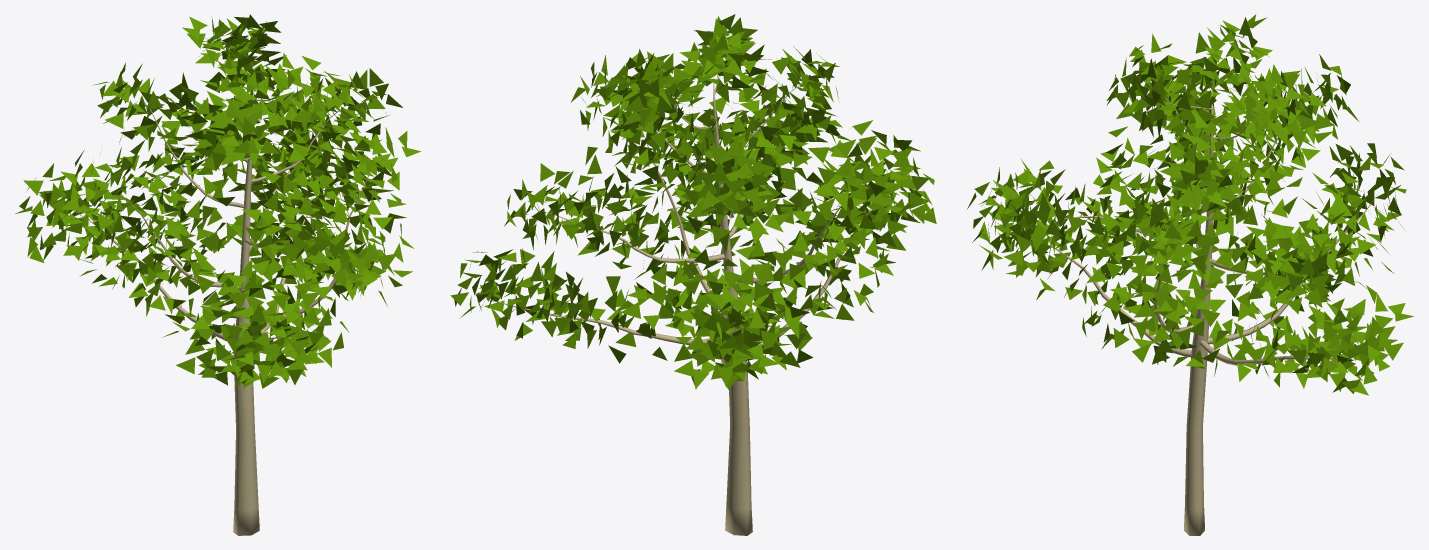
The model's file is tree2.glb.
3 views of the same model, side by side, from view 1: azimuth 30°, elevation 25°; view 2: azimuth 150°, elevation 25°; view 3: azimuth 270°, elevation 25° (orthographic). The views are drawn at different scales.
Parts seen in each view (by area): view 1: tree; view 2: tree; view 3: tree.
Boxes of the visible parts, left/top/right/bottom form: tree: left=15, top=14, right=421, bottom=535; tree: left=450, top=14, right=936, bottom=535; tree: left=967, top=14, right=1413, bottom=535.
Bounding box in the file's own units: 0.75 × 1 × 0.8.
